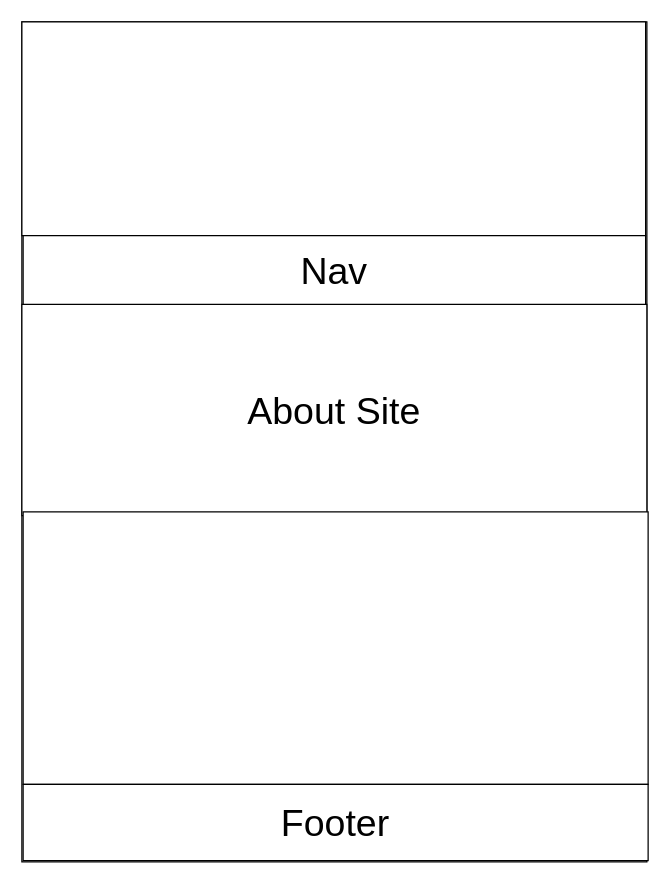
Some shapes in this 670 by 884 pixel diagram are drawn without their labels. The shapes that lost their labels are listed below. From the top down, each one's box as (x1, y1, x2, y2) in pixels, then its label:
(21, 21, 646, 236): header
(22, 511, 648, 784): About Me
